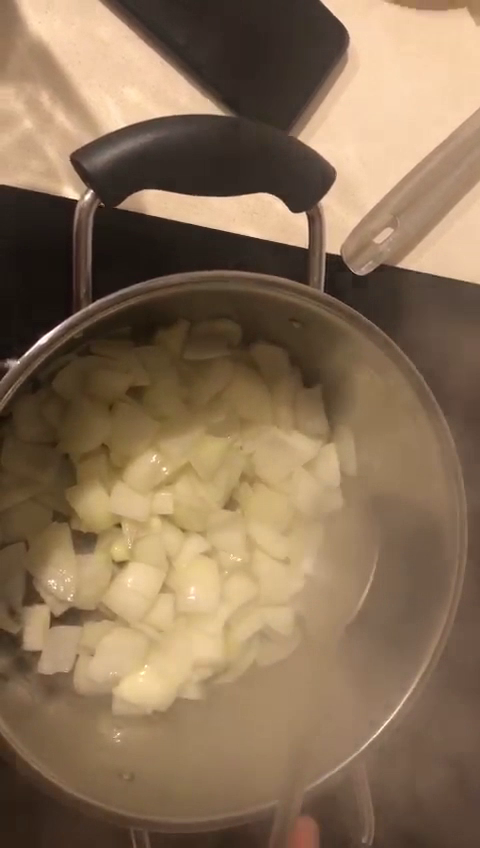Partially cooked: (27, 350, 284, 647)
